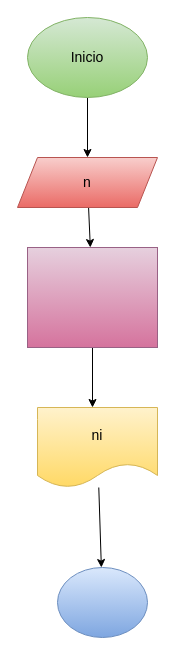
Some shapes in this 175 by 655 pixel diagram are drawn without their labels. Each missing label, with the centre of its shape:
d1=(n%10)*1000 pe=n//10 d2=(pe%10)*100 d3=(pe%10)*10 d4=pe//10: the point at 92,297
Fin: the point at 102,602
